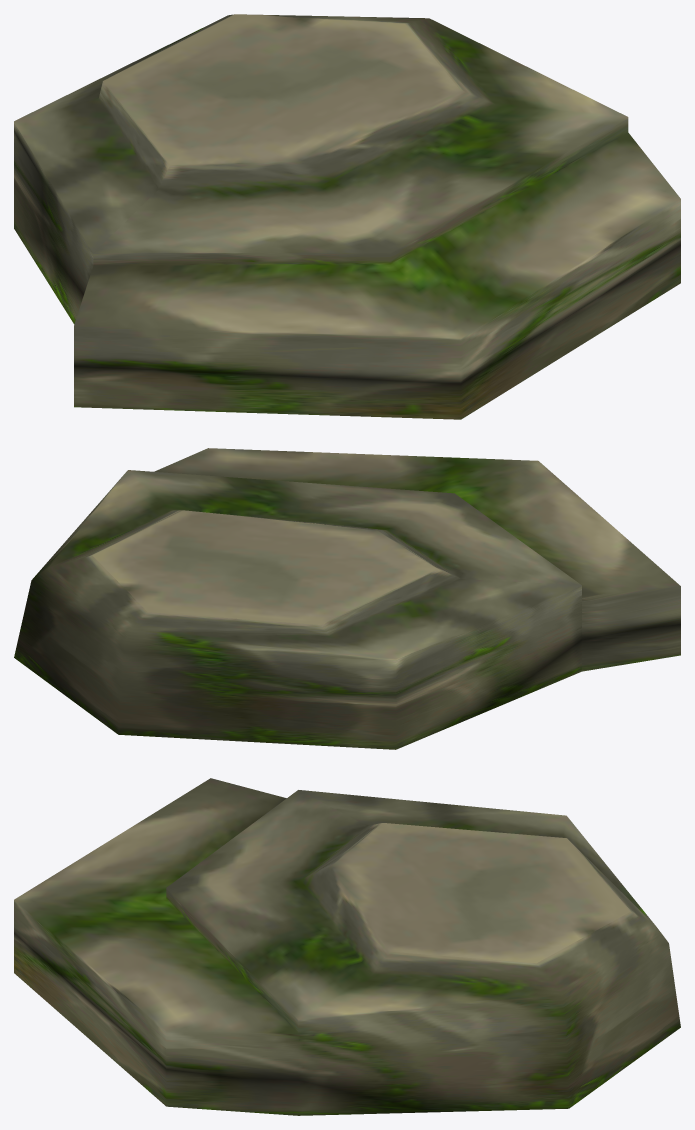
File: RockFormation_4_5 (31).fbx
3 views of the same model, one above another, from view 1: azimuth 30°, elevation 25°; view 2: azimuth 150°, elevation 25°; view 3: azimuth 270°, elevation 25° (orthographic). The views are drawn at different scales.
Visible parts, largest first — view 1: RockFormation_4_5 (31); view 2: RockFormation_4_5 (31); view 3: RockFormation_4_5 (31).
Part boxes in pixels (bbox=[...]): RockFormation_4_5 (31): bbox=[14, 14, 680, 419]; RockFormation_4_5 (31): bbox=[14, 448, 680, 749]; RockFormation_4_5 (31): bbox=[14, 778, 680, 1115].
Size of the model in its own units: 94.2 by 18.74 by 100.
